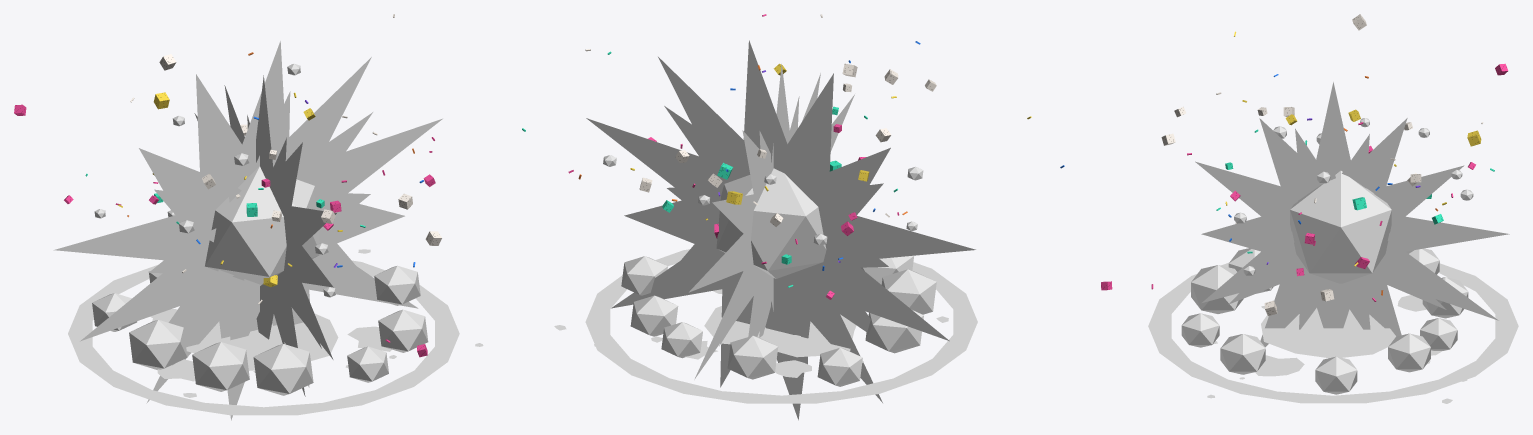
Rendered from Scoop Grenade Blast.fbx.
3 renders of one model, left to right at view 1: azimuth 30°, elevation 25°; view 2: azimuth 150°, elevation 25°; view 3: azimuth 270°, elevation 25°, orthographic. The views are drawn at different scales.
Visible parts, largest first — view 1: Scoop Grenade Blast star 0, Scoop Grenade Blast star 1, Scoop Grenade Blast shock ring, Scoop Grenade Blast star side 0, Scoop Grenade Blast fireball shell, Scoop Grenade Blast splat 0, Scoop Grenade Blast puff 7, Scoop Grenade Blast puff 5, Scoop Grenade Blast puff 6, Scoop Grenade Blast puff 9, Scoop Grenade Blast puff 0, Scoop Grenade Blast puff 8 (+4 smaller); view 2: Scoop Grenade Blast star 0, Scoop Grenade Blast shock ring, Scoop Grenade Blast star side 0, Scoop Grenade Blast fireball shell, Scoop Grenade Blast splat 0, Scoop Grenade Blast star 1, Scoop Grenade Blast puff 3, Scoop Grenade Blast puff 6, Scoop Grenade Blast puff 5, Scoop Grenade Blast puff 1, Scoop Grenade Blast puff 4, Scoop Grenade Blast puff 0 (+4 smaller); view 3: Scoop Grenade Blast star side 0, Scoop Grenade Blast star side 1, Scoop Grenade Blast fireball shell, Scoop Grenade Blast shock ring, Scoop Grenade Blast splat 0, Scoop Grenade Blast puff 7, Scoop Grenade Blast puff 9, Scoop Grenade Blast puff 1, Scoop Grenade Blast puff 0, Scoop Grenade Blast puff 8, Scoop Grenade Blast puff 2, Scoop Grenade Blast splat 1 (+4 smaller).
Boxes of the visible parts, box(x1,y1,x2,y2) form: Scoop Grenade Blast star 0: box(53, 41, 442, 420); Scoop Grenade Blast star 1: box(149, 91, 372, 340); Scoop Grenade Blast shock ring: box(68, 260, 459, 415); Scoop Grenade Blast star side 0: box(194, 75, 336, 396); Scoop Grenade Blast fireball shell: box(205, 166, 319, 285); Scoop Grenade Blast splat 0: box(186, 313, 338, 370); Scoop Grenade Blast puff 7: box(253, 344, 313, 395); Scoop Grenade Blast puff 5: box(129, 319, 187, 369); Scoop Grenade Blast puff 6: box(192, 342, 249, 391); Scoop Grenade Blast puff 9: box(378, 309, 428, 352); Scoop Grenade Blast puff 0: box(374, 265, 420, 305); Scoop Grenade Blast puff 8: box(347, 346, 388, 382); Scoop Grenade Blast star 0: box(586, 40, 975, 420); Scoop Grenade Blast shock ring: box(585, 249, 977, 403); Scoop Grenade Blast star side 0: box(689, 64, 854, 379); Scoop Grenade Blast fireball shell: box(716, 168, 826, 278); Scoop Grenade Blast splat 0: box(704, 306, 856, 357); Scoop Grenade Blast star 1: box(664, 106, 888, 364); Scoop Grenade Blast puff 3: box(727, 335, 778, 379); Scoop Grenade Blast puff 6: box(881, 269, 936, 314); Scoop Grenade Blast puff 5: box(865, 309, 923, 353); Scoop Grenade Blast puff 1: box(630, 295, 678, 336); Scoop Grenade Blast puff 4: box(817, 347, 862, 386); Scoop Grenade Blast puff 0: box(621, 256, 667, 295); Scoop Grenade Blast star side 0: box(1195, 82, 1509, 347); Scoop Grenade Blast star side 1: box(1228, 128, 1446, 329); Scoop Grenade Blast fireball shell: box(1290, 170, 1391, 283); Scoop Grenade Blast shock ring: box(1148, 262, 1518, 403); Scoop Grenade Blast splat 0: box(1261, 308, 1395, 358); Scoop Grenade Blast puff 7: box(1191, 265, 1243, 313); Scoop Grenade Blast puff 9: box(1220, 334, 1265, 374); Scoop Grenade Blast puff 1: box(1388, 333, 1430, 372); Scoop Grenade Blast puff 0: box(1315, 356, 1357, 394); Scoop Grenade Blast puff 8: box(1181, 313, 1219, 347); Scoop Grenade Blast puff 2: box(1420, 318, 1457, 350); Scoop Grenade Blast splat 1: box(1255, 355, 1304, 376).
Size of the model in its own units: 3.06 by 2.62 by 3.07.
Materials: 25 (11 with a texture image).
